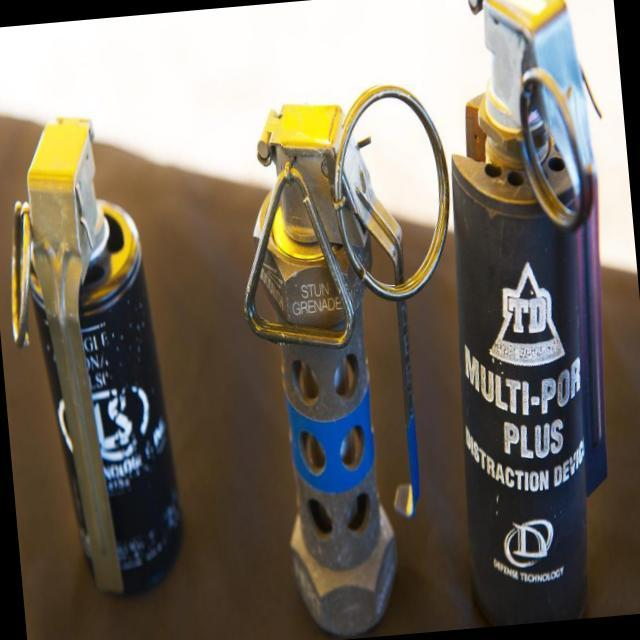grenade: (223, 89, 484, 636), (437, 0, 640, 616), (0, 89, 190, 602)
